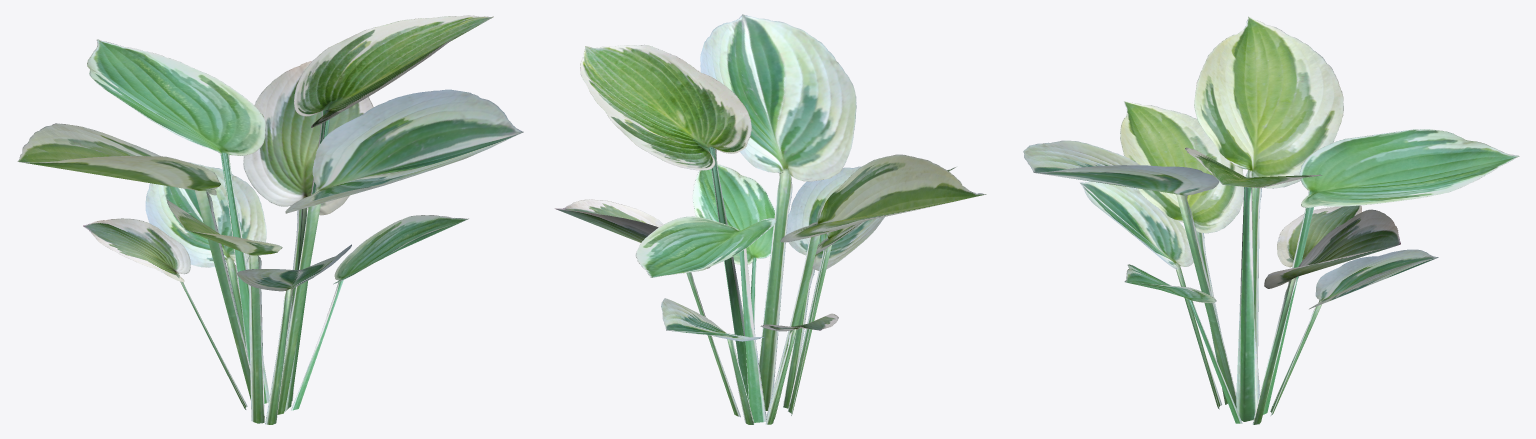
The model's file is plant_small_wg_00L_wild.fbx.
3 views of the same model, side by side, from view 1: azimuth 30°, elevation 25°; view 2: azimuth 150°, elevation 25°; view 3: azimuth 270°, elevation 25° (orthographic). The views are drawn at different scales.
Visible parts, largest first — view 1: plant_small_wg_00L_wild; view 2: plant_small_wg_00L_wild; view 3: plant_small_wg_00L_wild.
Part boxes in pixels (x1,y1,x2,y2): plant_small_wg_00L_wild: [17, 15, 523, 424]; plant_small_wg_00L_wild: [555, 14, 986, 424]; plant_small_wg_00L_wild: [1023, 16, 1519, 424].
Size of the model in its own units: 57.79 by 42.4 by 58.83.
